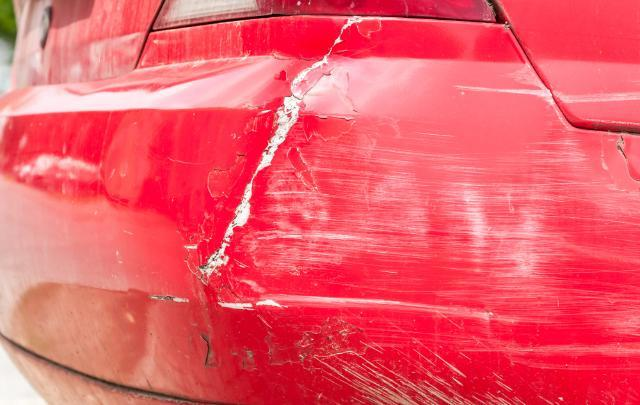scratch: (176, 48, 640, 405)
